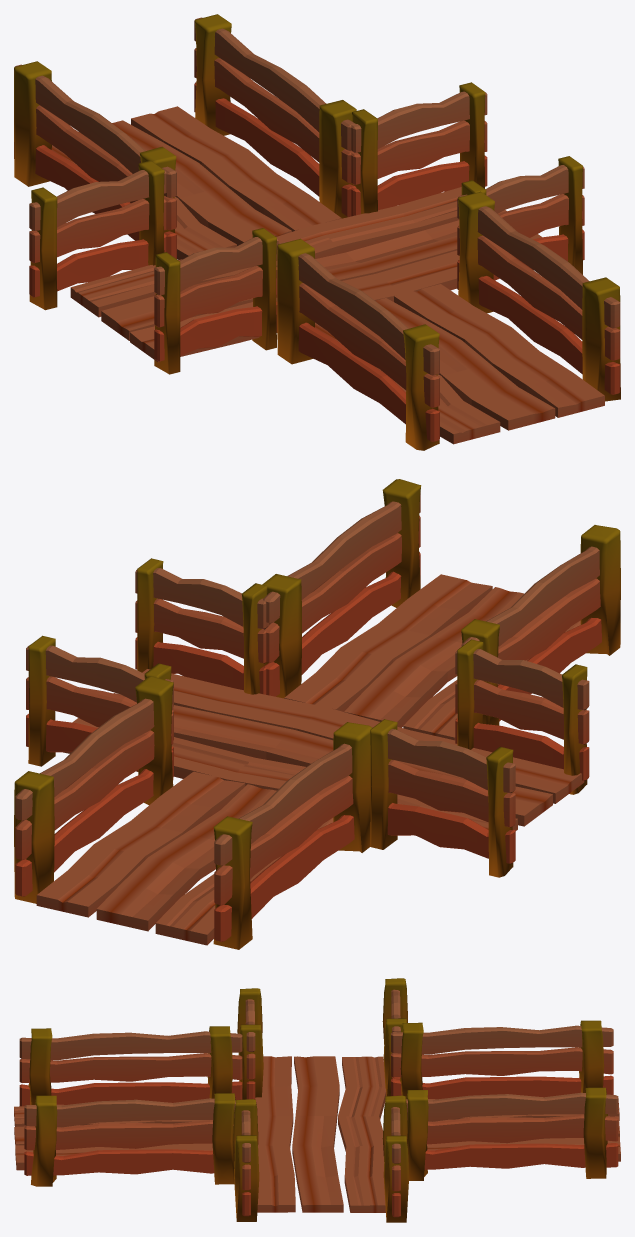
File: сегмент разветвление 2.fbx
3 views of the same model, one above another, from view 1: azimuth 30°, elevation 25°; view 2: azimuth 150°, elevation 25°; view 3: azimuth 270°, elevation 25° (orthographic). The views are drawn at different scales.
Visible parts, largest first — view 1: Cube.019, Cube.055, Cube.014, Cube.020, Cube.056, Cube.013, Cube.057, Cube.004, Cube.054; view 2: Cube.055, Cube.019, Cube.056, Cube.014, Cube.020, Cube.013, Cube.004, Cube.054, Cube.057; view 3: Cube.019, Cube.055, Cube.014, Cube.057, Cube.054, Cube.004, Cube.020, Cube.013, Cube.056.
Part boxes in pixels (x1=…): Cube.019: x1=277, y1=191, x2=620, y2=450; Cube.055: x1=14, y1=14, x2=356, y2=258; Cube.014: x1=70, y1=187, x2=541, y2=362; Cube.020: x1=315, y1=284, x2=604, y2=444; Cube.056: x1=51, y1=106, x2=341, y2=259; Cube.013: x1=29, y1=160, x2=166, y2=310; Cube.057: x1=351, y1=82, x2=487, y2=216; Cube.004: x1=154, y1=228, x2=278, y2=374; Cube.054: x1=461, y1=156, x2=584, y2=280; Cube.055: x1=14, y1=676, x2=372, y2=949; Cube.019: x1=262, y1=479, x2=620, y2=725; Cube.056: x1=36, y1=771, x2=333, y2=945; Cube.014: x1=63, y1=669, x2=584, y2=835; Cube.020: x1=284, y1=574, x2=580, y2=740; Cube.013: x1=370, y1=719, x2=515, y2=877; Cube.004: x1=455, y1=639, x2=589, y2=794; Cube.054: x1=135, y1=558, x2=269, y2=694; Cube.057: x1=26, y1=635, x2=173, y2=776; Cube.019: x1=19, y1=1026, x2=242, y2=1186; Cube.055: x1=391, y1=1020, x2=618, y2=1180; Cube.014: x1=255, y1=1056, x2=386, y2=1212; Cube.057: x1=382, y1=1095, x2=408, y2=1222; Cube.054: x1=233, y1=1099, x2=259, y2=1221; Cube.004: x1=237, y1=988, x2=263, y2=1099; Cube.020: x1=14, y1=1104, x2=212, y2=1170; Cube.013: x1=382, y1=978, x2=407, y2=1096; Cube.056: x1=427, y1=1098, x2=620, y2=1161.
Bounding box in the file's own units: 1779 × 414 × 2738.
